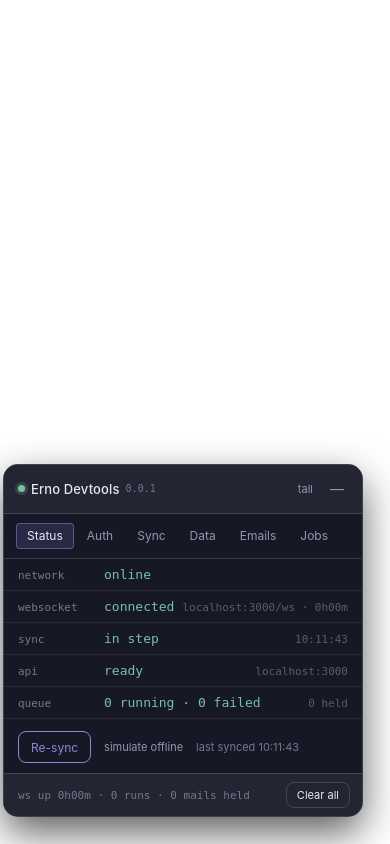
Test: ErnoDevtoolsComponent › renders the Auth tab signed out with seed credentials
What coordinates should you click on to do the following:
click the tab with class "tab" showing "Auth"
I would click on:
 (100, 536)
Its box is [76,523,124,549].
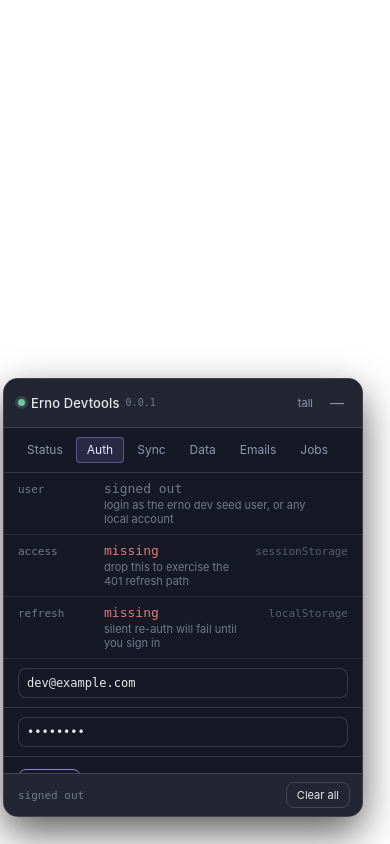
Check: the text "signed out" is shown, box [104,481,182,496]
Check: the text "sign in" is shown, box [104,622,237,650]
Check: the field with placeholder "email" holds "dev@example.com", box [18,668,348,698]
